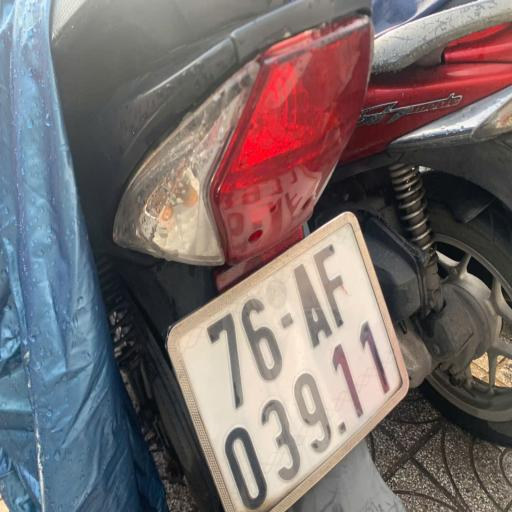0: (214, 423, 270, 512)
1: (352, 312, 406, 404), (329, 338, 364, 434)
3: (259, 398, 305, 486)
6: (244, 298, 286, 390)
7: (205, 306, 247, 406)
9: (288, 371, 338, 454)
A: (288, 264, 333, 350)
F: (316, 233, 352, 323)
